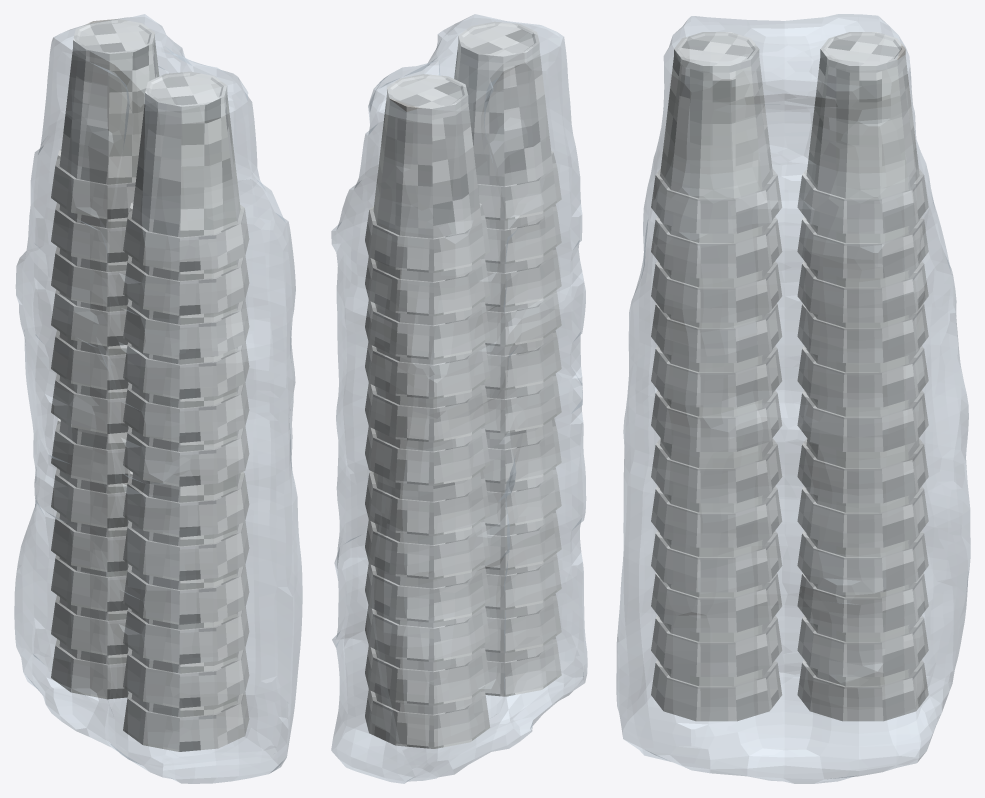
Rendered from foam_cup_stackl.glb.
The picture shows the model from 3 angles, left to right: view 1: azimuth 30°, elevation 25°; view 2: azimuth 150°, elevation 25°; view 3: azimuth 270°, elevation 25°; orthographic projection. The views are drawn at different scales.
Visible parts, largest first — view 1: Plane, Circle.015, Circle.008, Circle.020, Circle.017, Circle.012, Circle.018, Circle.016, Circle.022, Circle.023, Circle.013, Circle.019 (+13 smaller); view 2: Plane, Circle.008, Circle.015, Circle.003, Circle.010, Circle.004, Circle.001, Circle.006, Circle.007, Circle, Circle.005, Circle.011 (+13 smaller); view 3: Plane, Circle.015, Circle.008, Circle.003, Circle.020, Circle.007, Circle.005, Circle.016, Circle.018, Circle.011, Circle.001, Circle.006 (+13 smaller).
Part boxes in pixels (x1,y1,x2,y2): Plane: [14, 14, 302, 783]; Circle.015: [123, 71, 249, 272]; Circle.008: [51, 19, 159, 219]; Circle.020: [123, 471, 249, 537]; Circle.017: [123, 299, 249, 359]; Circle.012: [123, 426, 249, 486]; Circle.018: [123, 564, 249, 624]; Circle.016: [123, 255, 249, 315]; Circle.022: [123, 648, 249, 708]; Circle.023: [123, 691, 249, 751]; Circle.013: [123, 382, 249, 442]; Circle.019: [123, 520, 249, 580]; Plane: [331, 14, 587, 783]; Circle.008: [365, 74, 490, 272]; Circle.015: [454, 21, 561, 220]; Circle.003: [365, 470, 490, 536]; Circle.010: [365, 383, 489, 442]; Circle.004: [365, 520, 489, 579]; Circle.001: [365, 646, 490, 705]; Circle.006: [365, 300, 490, 359]; Circle.007: [365, 256, 489, 316]; Circle: [365, 689, 490, 748]; Circle.005: [365, 563, 490, 622]; Circle.011: [365, 426, 490, 485]; Plane: [616, 14, 970, 783]; Circle.015: [651, 32, 782, 233]; Circle.008: [797, 32, 928, 233]; Circle.003: [797, 438, 928, 503]; Circle.020: [651, 438, 782, 503]; Circle.007: [797, 216, 928, 278]; Circle.005: [797, 530, 928, 592]; Circle.016: [651, 216, 782, 278]; Circle.018: [651, 530, 782, 592]; Circle.011: [797, 390, 928, 451]; Circle.001: [797, 615, 928, 676]; Circle.006: [797, 261, 928, 322].
Size of the model in its own units: 0.2053 by 0.8141 by 0.3658.
2 materials, 1 textured.
